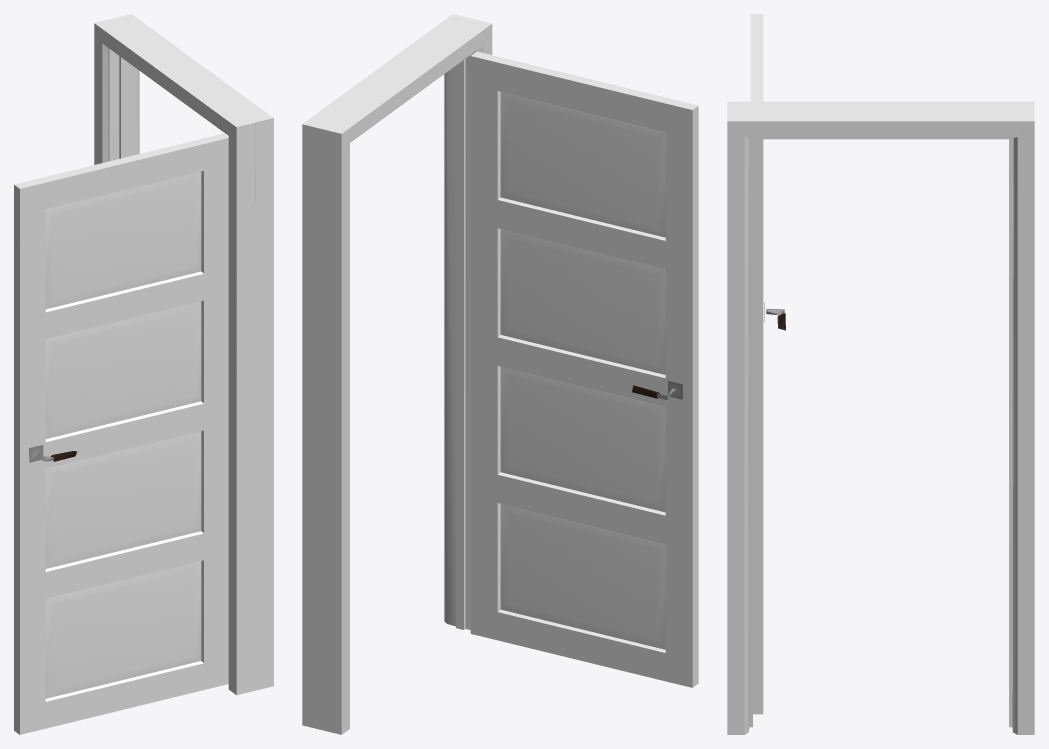
File: Door0014open.obj
The picture shows the model from 3 angles, left to right: view 1: azimuth 30°, elevation 25°; view 2: azimuth 150°, elevation 25°; view 3: azimuth 270°, elevation 25°; orthographic projection. The views are drawn at different scales.
Bounding box in the file's own units: 0.951 × 2.12 × 0.964.
Materials: 1 (1 with a texture image).
